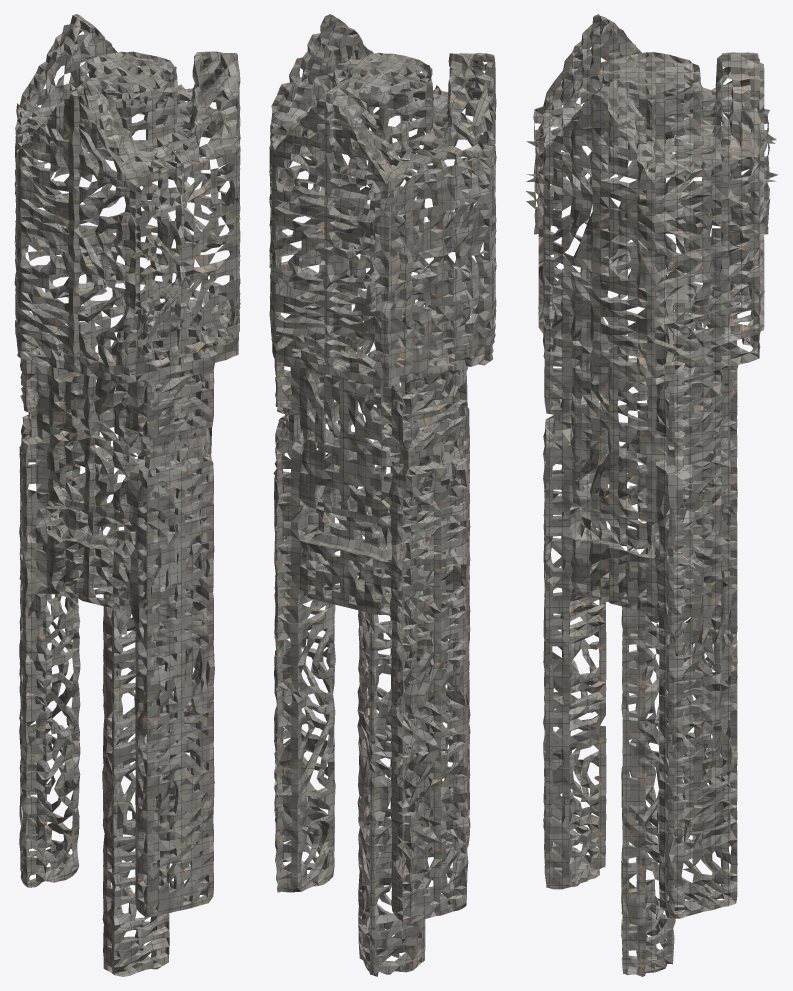
The model's file is NaveCasco.obj.
The picture shows the model from 3 angles, left to right: view 1: azimuth 30°, elevation 25°; view 2: azimuth 150°, elevation 25°; view 3: azimuth 270°, elevation 25°; orthographic projection.
Parts seen in each view (by area): view 1: NaveCasco; view 2: NaveCasco; view 3: NaveCasco.
Boxes of the visible parts, bbox=[...] form: NaveCasco: bbox=[14, 14, 240, 976]; NaveCasco: bbox=[269, 14, 496, 976]; NaveCasco: bbox=[526, 14, 778, 976].
Size of the model in its own units: 29.79 by 118 by 29.76.
